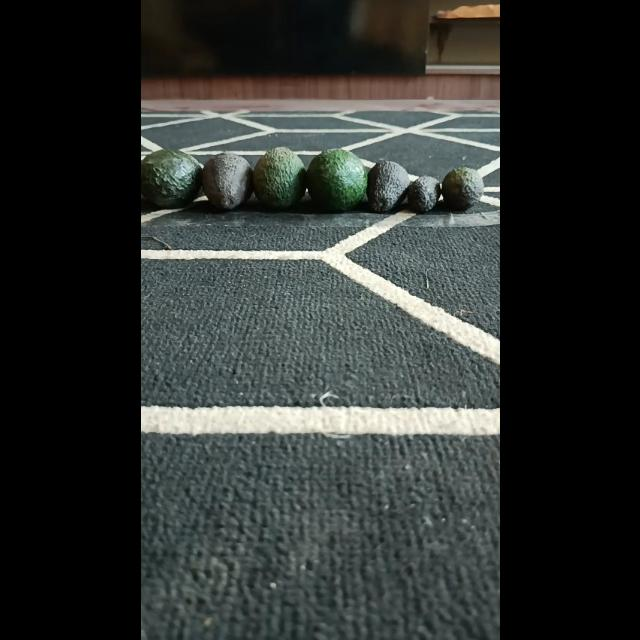Primera: (305, 148, 367, 212), (140, 149, 202, 209), (251, 146, 305, 210), (200, 151, 254, 211)
Segunda: (365, 160, 409, 212), (440, 166, 482, 212)
Tercera: (406, 176, 440, 214)
